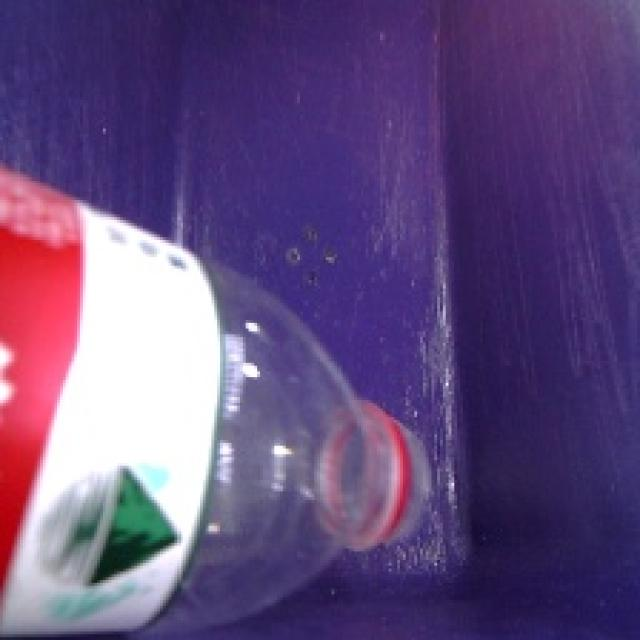plastic: (0, 128, 459, 640)
